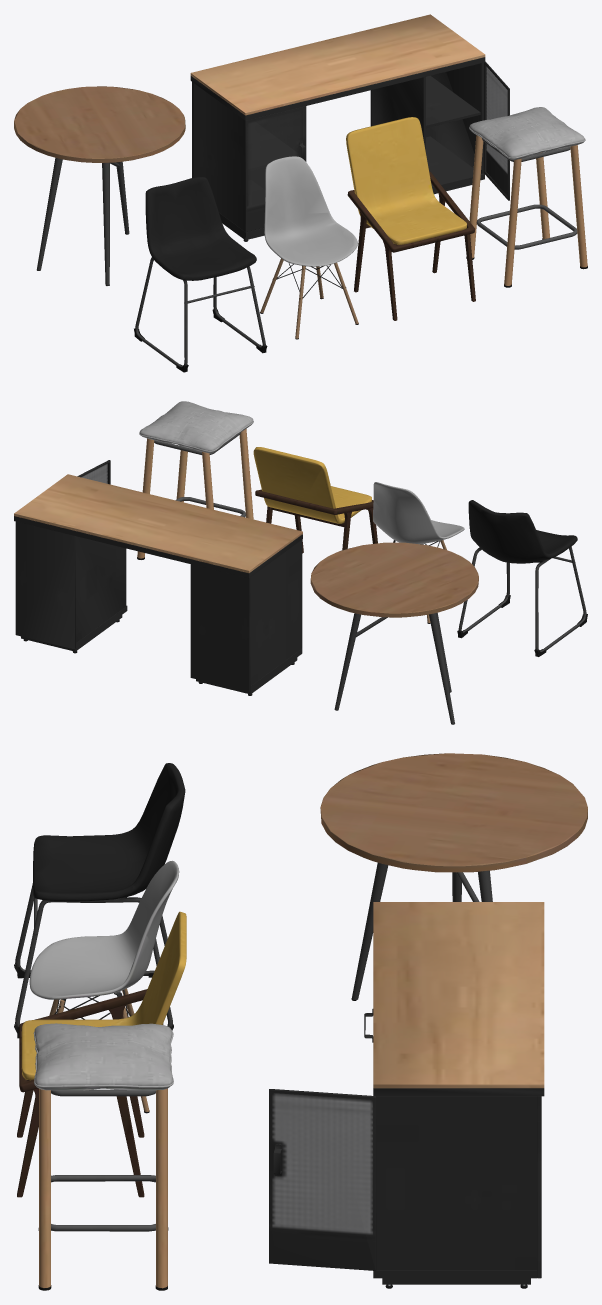
The model's file is furniture.glb.
3 views of the same model, one above another, from view 1: azimuth 30°, elevation 25°; view 2: azimuth 150°, elevation 25°; view 3: azimuth 270°, elevation 25° (orthographic). The views are drawn at different scales.
Visible parts, largest first — view 1: table AGAMA_table AGAMA_0, table Crueso_table Crueso_0, mykonos chair_mykonos chair_0, myrick chair_Myrick Chair_0, chair JIMI_chair JIMI_0, boisvert chair_boisvert chair_0; view 2: table AGAMA_table AGAMA_0, table Crueso_table Crueso_0, chair JIMI_chair JIMI_0, mykonos chair_mykonos chair_0, myrick chair_Myrick Chair_0, boisvert chair_boisvert chair_0; view 3: table AGAMA_table AGAMA_0, table Crueso_table Crueso_0, chair JIMI_chair JIMI_0, myrick chair_Myrick Chair_0, boisvert chair_boisvert chair_0, mykonos chair_mykonos chair_0.
Boxes of the visible parts, x1,y1,x2,y2 form: table AGAMA_table AGAMA_0: [190, 14, 509, 241]; table Crueso_table Crueso_0: [14, 86, 185, 285]; mykonos chair_mykonos chair_0: [346, 117, 475, 320]; myrick chair_Myrick Chair_0: [134, 176, 267, 372]; chair JIMI_chair JIMI_0: [466, 107, 587, 287]; boisvert chair_boisvert chair_0: [260, 156, 358, 339]; table AGAMA_table AGAMA_0: [14, 460, 302, 695]; table Crueso_table Crueso_0: [310, 542, 478, 724]; chair JIMI_chair JIMI_0: [137, 401, 253, 559]; mykonos chair_mykonos chair_0: [253, 447, 377, 553]; myrick chair_Myrick Chair_0: [457, 500, 587, 656]; boisvert chair_boisvert chair_0: [373, 482, 464, 623]; table AGAMA_table AGAMA_0: [269, 902, 544, 1288]; table Crueso_table Crueso_0: [320, 753, 587, 1000]; chair JIMI_chair JIMI_0: [33, 1023, 173, 1290]; myrick chair_Myrick Chair_0: [14, 763, 185, 1038]; boisvert chair_boisvert chair_0: [29, 860, 179, 1113]; mykonos chair_mykonos chair_0: [17, 911, 186, 1197].
Size of the model in its own units: 263 by 86.6 by 193.
6 materials, 6 textured.
